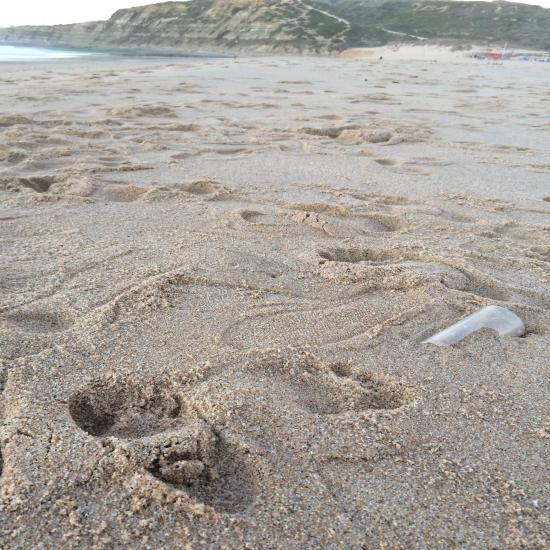Other plastic wrapper: (420, 306, 525, 346)
